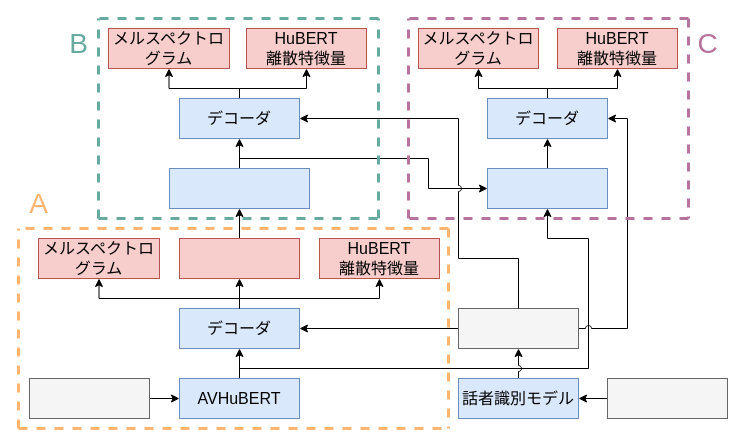
The diagram is 745 pixels wide and 448 high, and some of its shapes have lost their labels. Here are the shapes that lost their labels. From the top down, the box of each, then its label:
(168, 168, 310, 208): HuBERT Transformer
(486, 168, 608, 208): Transformer
(178, 238, 300, 278): HuBERT 中間特徴量
(458, 308, 578, 348): 話者Embedding
(28, 378, 150, 418): 口唇動画
(606, 378, 728, 418): 原音声
